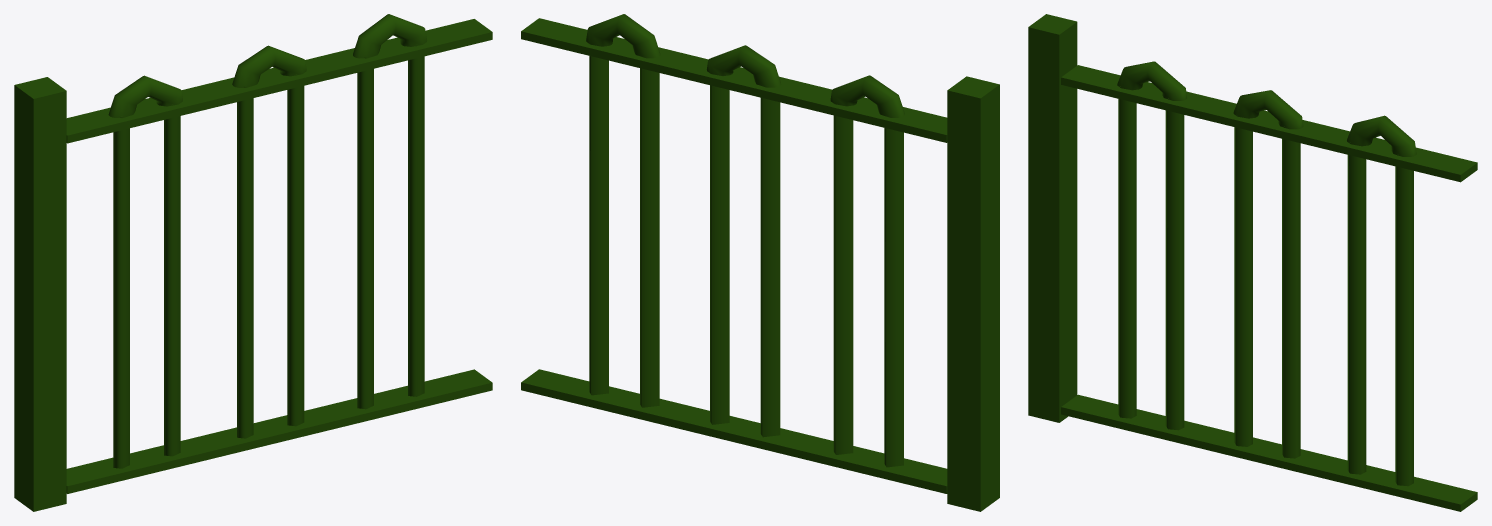
Rendered from Green fence endless.fbx.
3 views of the same model, side by side, from view 1: azimuth 30°, elevation 25°; view 2: azimuth 150°, elevation 25°; view 3: azimuth 330°, elevation 25° (orthographic). The views are drawn at different scales.
Visible parts, largest first — view 1: pCube24, pCube25, pCube27, pCylinder28, pCylinder25, pCylinder29, pCylinder27, pCylinder30, pCylinder26, pTorus8, pTorus6, pTorus7; view 2: pCube24, pCube25, pCube27, pCylinder26, pCylinder27, pCylinder25, pCylinder29, pCylinder30, pCylinder28, pTorus8, pTorus6, pTorus7; view 3: pCube24, pCube25, pCube27, pCylinder26, pCylinder29, pCylinder30, pCylinder27, pCylinder25, pCylinder28, pTorus8, pTorus7, pTorus6.
Boxes of the visible parts, bbox=[...] form: pCube24: bbox=[14, 77, 66, 511]; pCube25: bbox=[66, 369, 492, 493]; pCube27: bbox=[66, 19, 492, 143]; pCylinder28: bbox=[287, 74, 304, 426]; pCylinder25: bbox=[113, 116, 129, 468]; pCylinder29: bbox=[357, 57, 373, 409]; pCylinder27: bbox=[237, 86, 253, 438]; pCylinder30: bbox=[408, 44, 424, 396]; pCylinder26: bbox=[164, 104, 180, 456]; pTorus8: bbox=[353, 14, 426, 58]; pTorus6: bbox=[108, 75, 182, 117]; pTorus7: bbox=[232, 45, 306, 87]; pCube24: bbox=[947, 76, 999, 511]; pCube25: bbox=[521, 369, 947, 493]; pCube27: bbox=[521, 18, 947, 142]; pCylinder26: bbox=[833, 115, 853, 454]; pCylinder27: bbox=[760, 98, 780, 437]; pCylinder25: bbox=[884, 128, 903, 467]; pCylinder29: bbox=[640, 68, 659, 407]; pCylinder30: bbox=[589, 56, 608, 395]; pCylinder28: bbox=[710, 85, 729, 424]; pTorus8: bbox=[586, 14, 660, 58]; pTorus6: bbox=[830, 75, 904, 117]; pTorus7: bbox=[706, 45, 781, 87]; pCube24: bbox=[1028, 14, 1077, 422]; pCube25: bbox=[1061, 394, 1477, 511]; pCube27: bbox=[1061, 65, 1477, 182]; pCylinder26: bbox=[1165, 98, 1184, 430]; pCylinder29: bbox=[1347, 142, 1366, 474]; pCylinder30: bbox=[1395, 154, 1413, 486]; pCylinder27: bbox=[1234, 114, 1252, 446]; pCylinder25: bbox=[1118, 86, 1136, 418]; pCylinder28: bbox=[1282, 126, 1300, 458]; pTorus8: bbox=[1347, 115, 1416, 156]; pTorus7: bbox=[1233, 90, 1303, 129]; pTorus6: bbox=[1117, 61, 1186, 100].
Bounding box in the file's own units: 10.48 × 9 × 0.7572.
